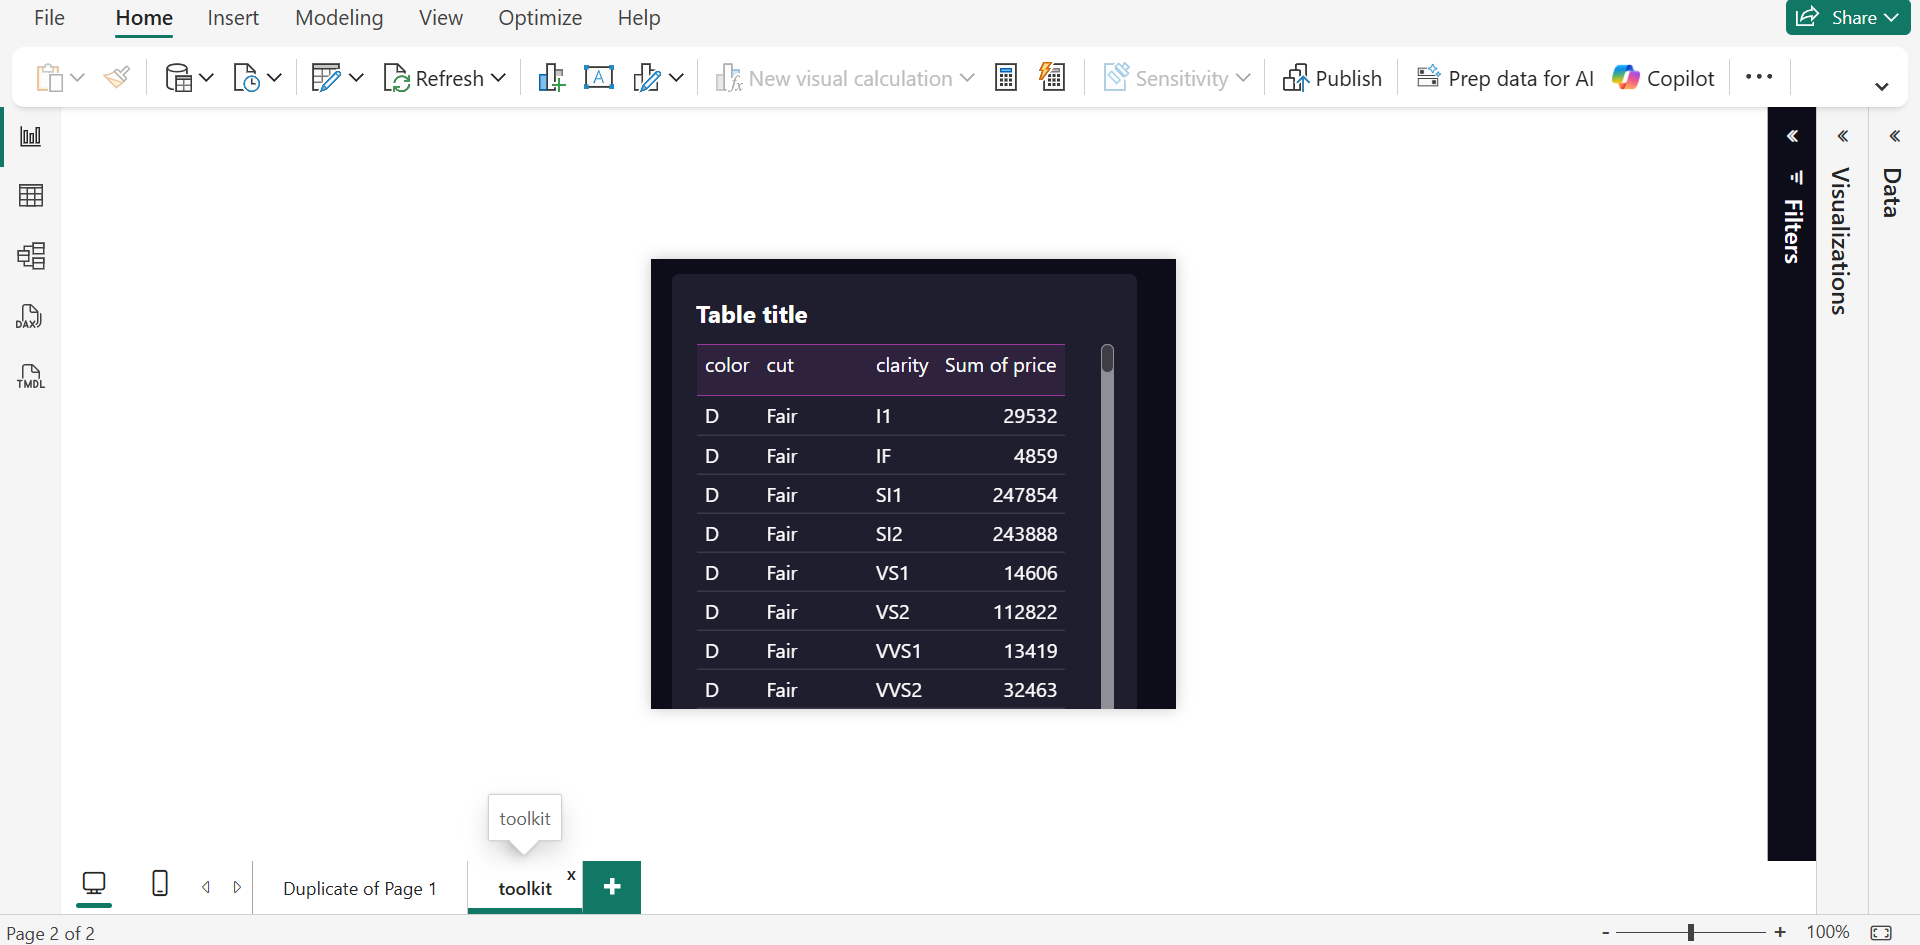

This screenshot's page, from the dashboard's own definition file:
{"tool":"powerbi","page":{"name":"Page 2","canvas":[350,300],"ordinal":1},"visuals":[{"type":"tableEx","fields":{"Values":["diamonds.color","diamonds.cut","diamonds.clarity","Sum(diamonds.price)"]},"box":[14,10,310,460],"z":0}]}

Visuals, with their boxes on the page's 350x300 design canvas (x1, y1, x2, y2). These are canvas units, not pixel positions in the 1920x945 screenshot, which may show the page scaled, cropped or inside an application window:
tableEx - diamonds.color x diamonds.cut: box=[14, 10, 324, 470]
